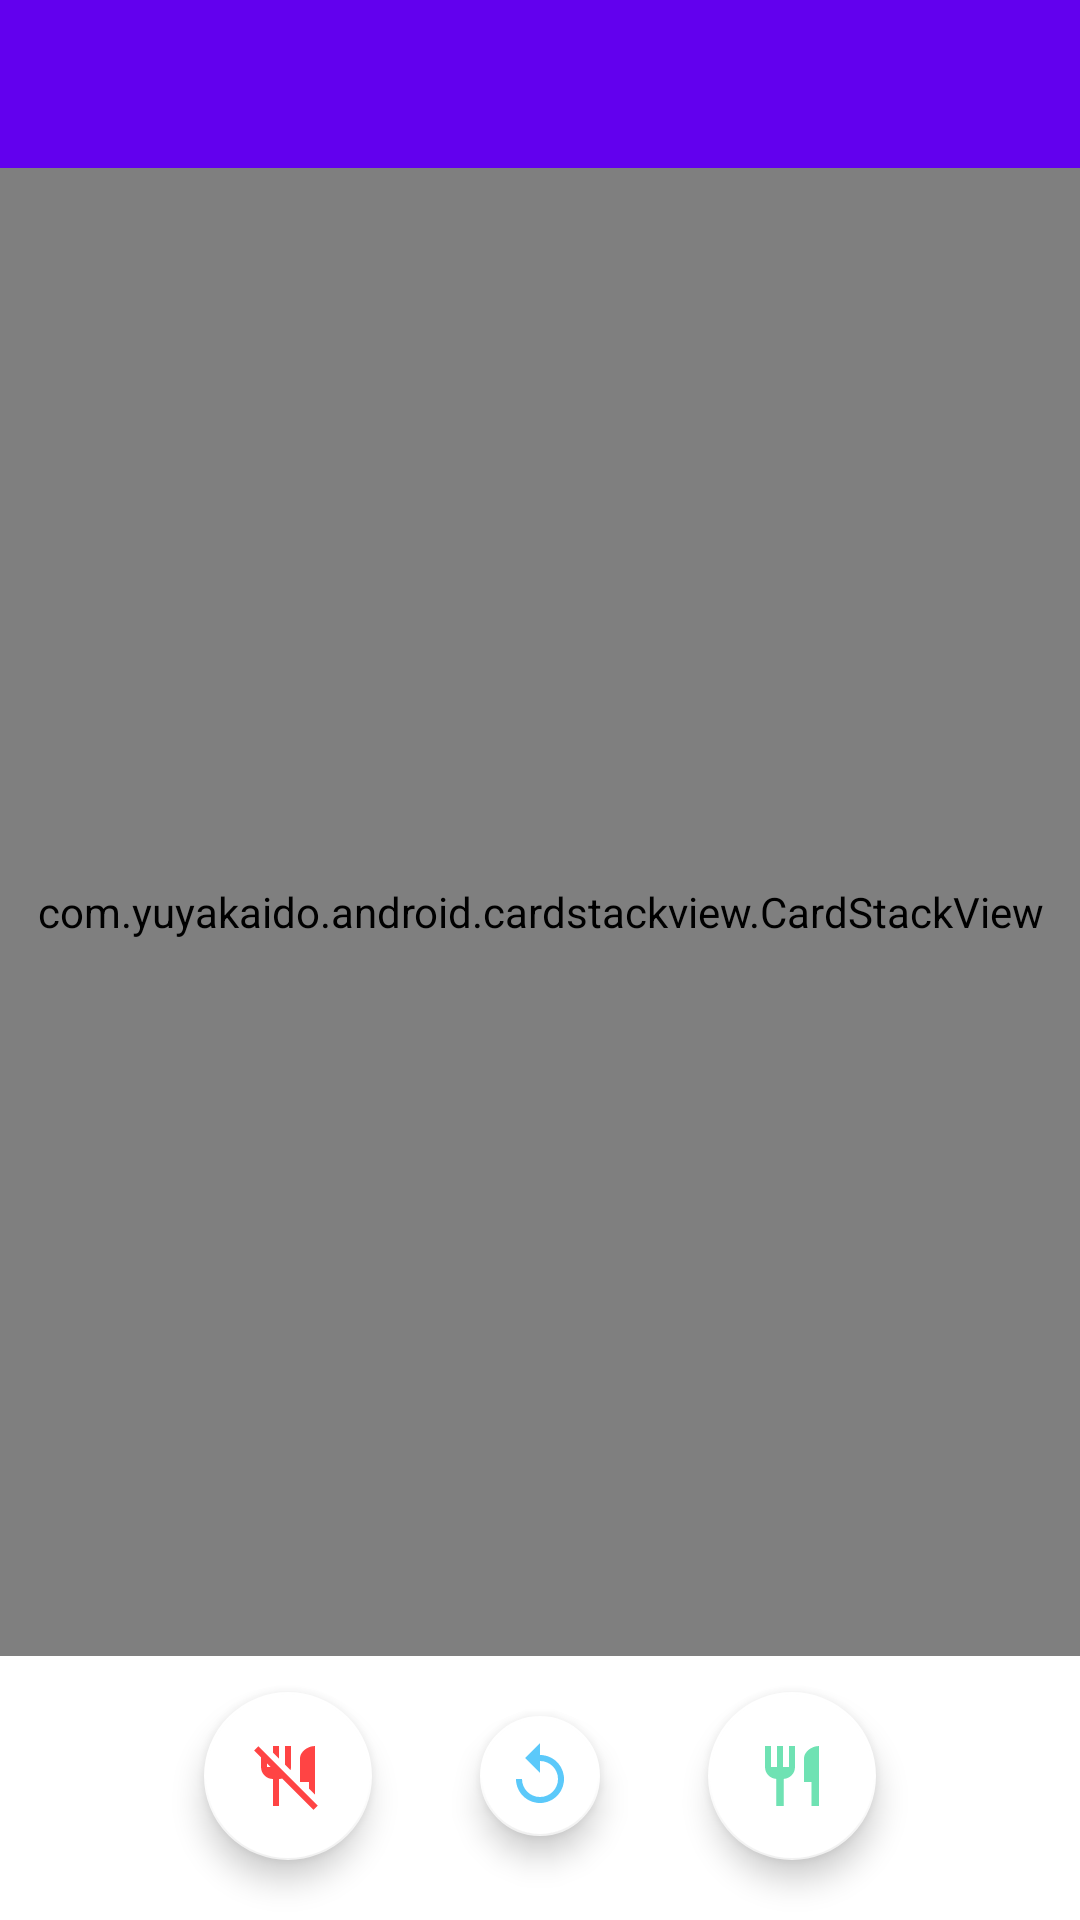

Icon bounding boxes for this 1080×1920 phone screenshot, format (x1, y1, x2, y2):
rewind: (482, 1743, 599, 1848)
